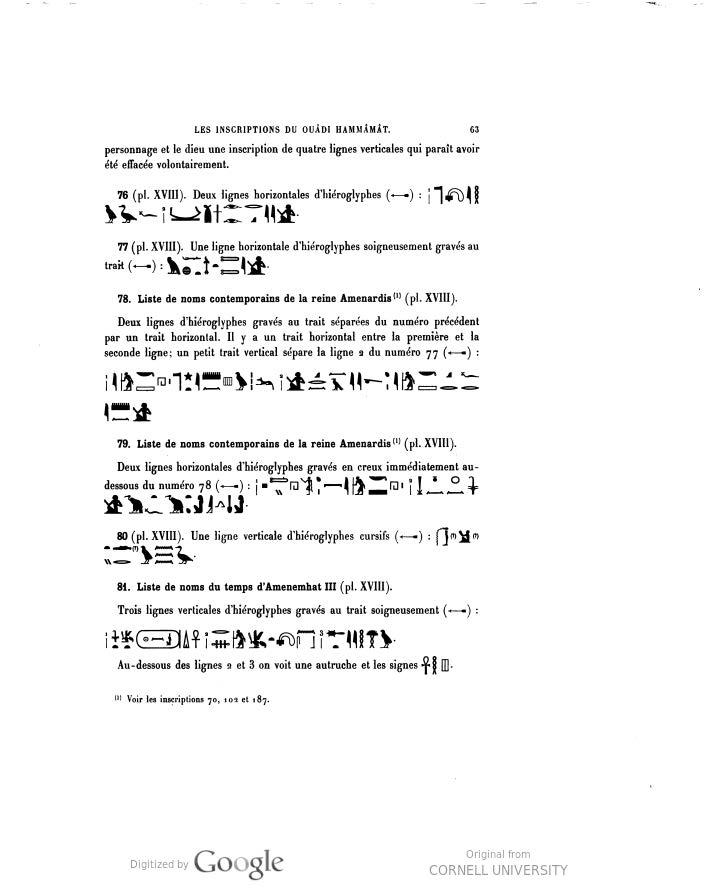circle: (134, 625, 187, 659)
